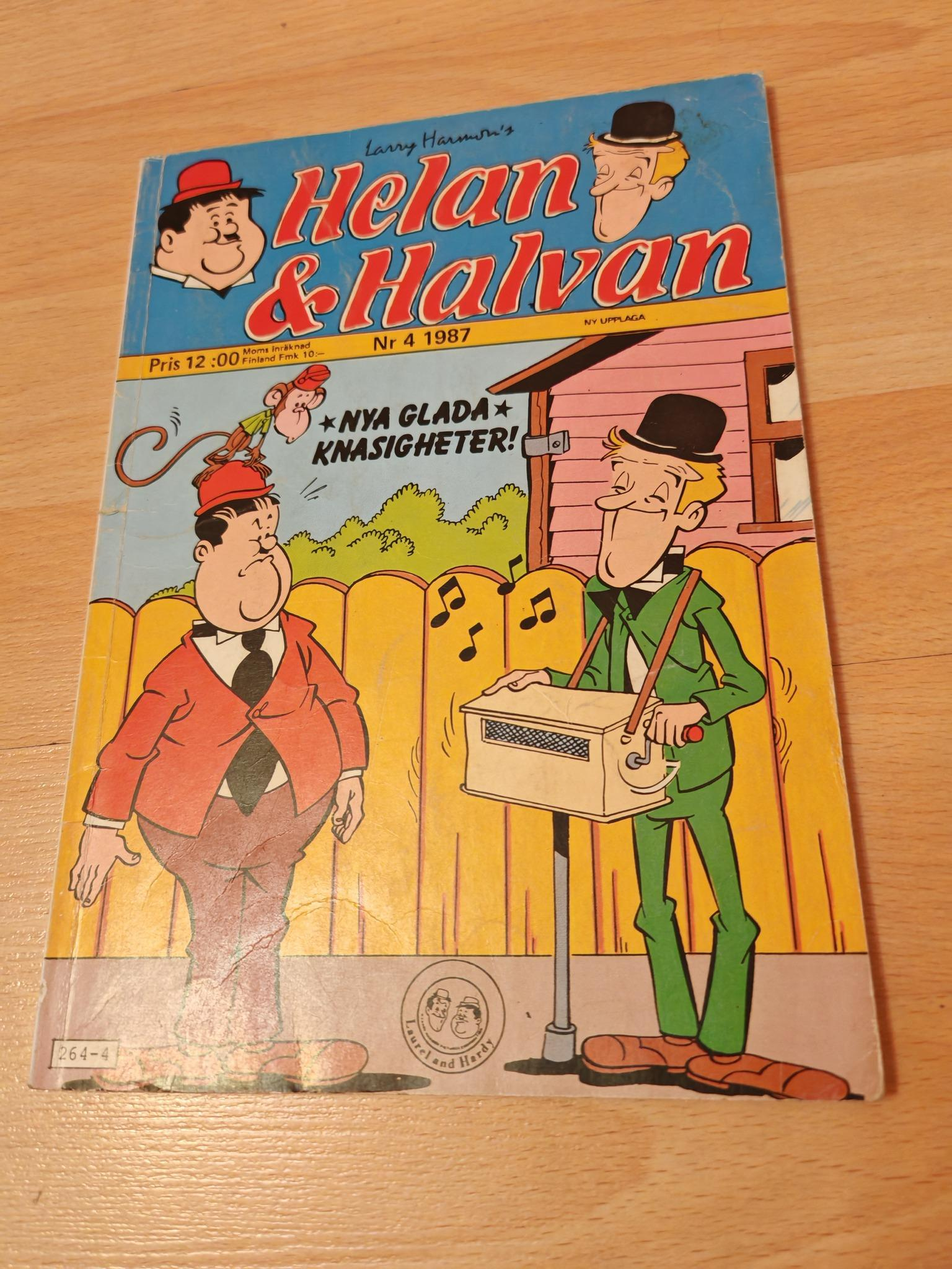comic: (32, 66, 895, 1100)
